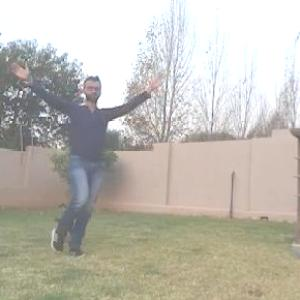takeoff: (7, 77, 132, 250)
